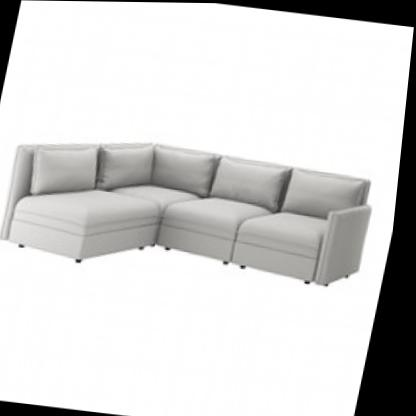Sofa: (0, 104, 395, 323)
